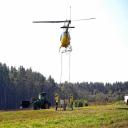helicopter: (33, 8, 97, 54)
